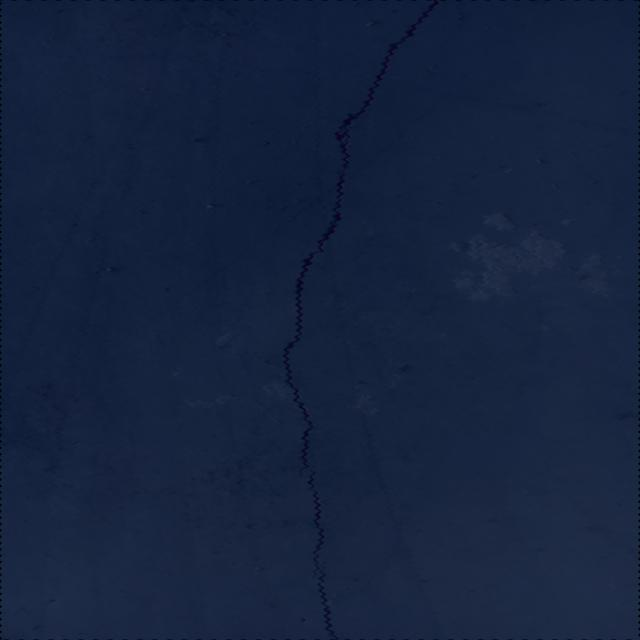crack: (283, 1, 440, 478), (309, 469, 338, 640)
